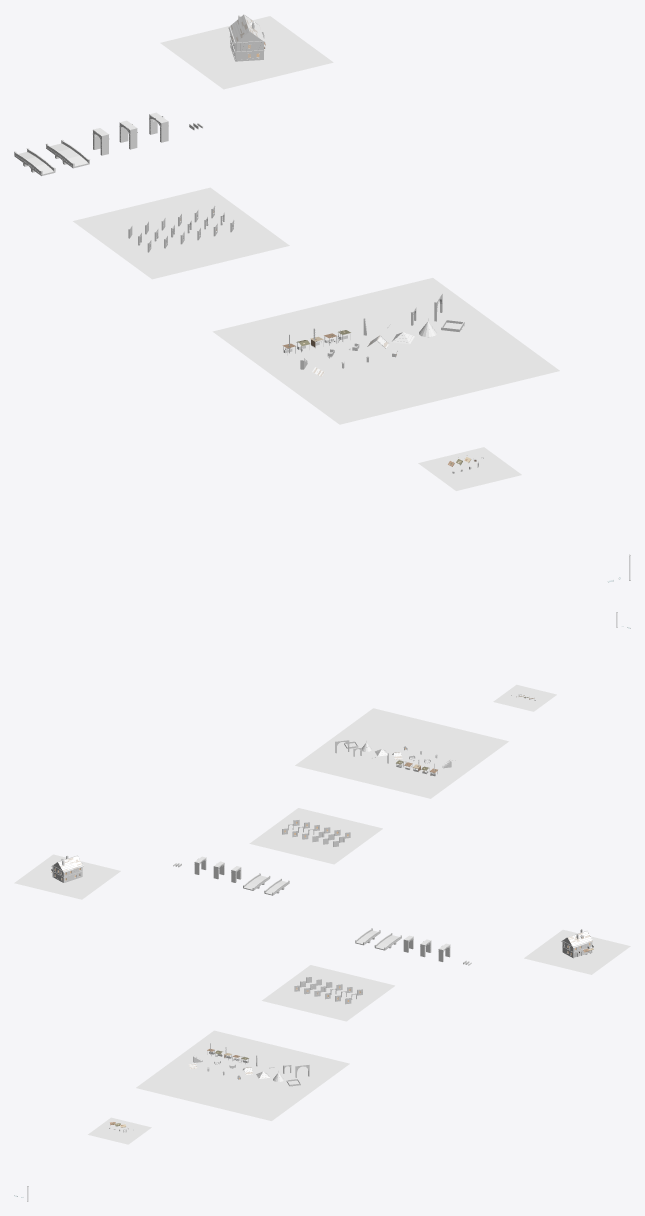
File: bld_kit.glb
3 renders of one model, top to bottom at view 1: azimuth 30°, elevation 25°; view 2: azimuth 150°, elevation 25°; view 3: azimuth 330°, elevation 25°, orthographic. The views are drawn at different scales.
Parts seen in each view (by area): view 1: BLD_SHEET_Ground_Other, BLD_SHEET_Ground_Walls, BLD_TEST_Ground, BLD_SHEET_Ground_Props, TEST_Casa_12x9_Body, BLD_TEST_Street; view 2: BLD_SHEET_Ground_Other, BLD_SHEET_Ground_Walls, BLD_TEST_Ground, BLD_SHEET_Ground_Props; view 3: BLD_SHEET_Ground_Other, BLD_SHEET_Ground_Walls, BLD_TEST_Ground, BLD_SHEET_Ground_Props.
Boxes of the visible parts, x1=… form: BLD_SHEET_Ground_Other: x1=212, y1=278, x2=559, y2=424; BLD_SHEET_Ground_Walls: x1=73, y1=187, x2=289, y2=279; BLD_TEST_Ground: x1=160, y1=16, x2=333, y2=89; BLD_SHEET_Ground_Props: x1=418, y1=447, x2=521, y2=490; TEST_Casa_12x9_Body: x1=229, y1=24, x2=264, y2=61; BLD_TEST_Street: x1=262, y1=30, x2=290, y2=71; BLD_SHEET_Ground_Other: x1=295, y1=708, x2=508, y2=798; BLD_SHEET_Ground_Walls: x1=249, y1=808, x2=382, y2=864; BLD_TEST_Ground: x1=14, y1=854, x2=120, y2=899; BLD_SHEET_Ground_Props: x1=493, y1=684, x2=556, y2=711; BLD_SHEET_Ground_Other: x1=136, y1=1030, x2=349, y2=1120; BLD_SHEET_Ground_Walls: x1=262, y1=965, x2=394, y2=1021; BLD_TEST_Ground: x1=524, y1=929, x2=630, y2=974; BLD_SHEET_Ground_Props: x1=88, y1=1117, x2=151, y2=1144.
Size of what is drawn, in the model's own units: 133 by 11.51 by 420.
18 materials, 15 textured.
